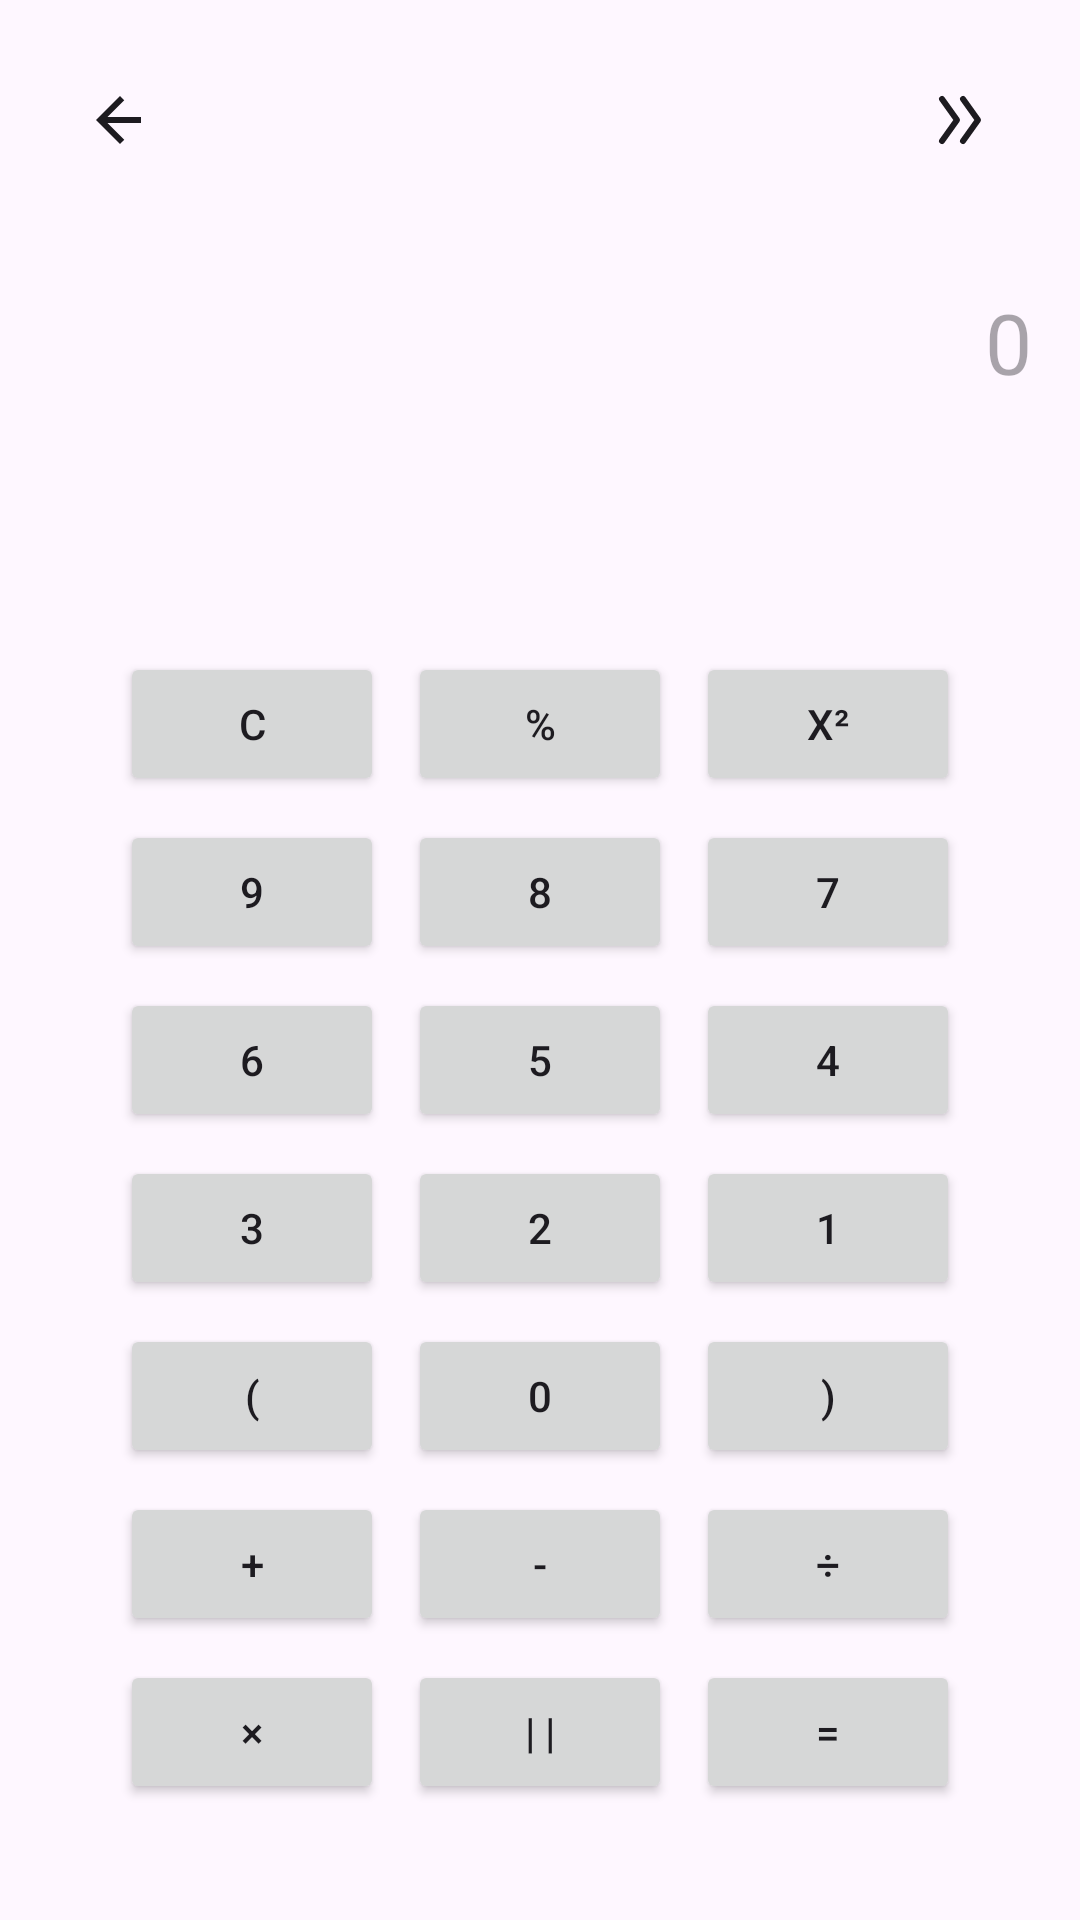

Icons on this 1080px×1920px Android screen, each with its box as (x1, y1, x2, y2):
Назад: (96, 96, 141, 144)
Развернуть: (939, 96, 981, 144)
